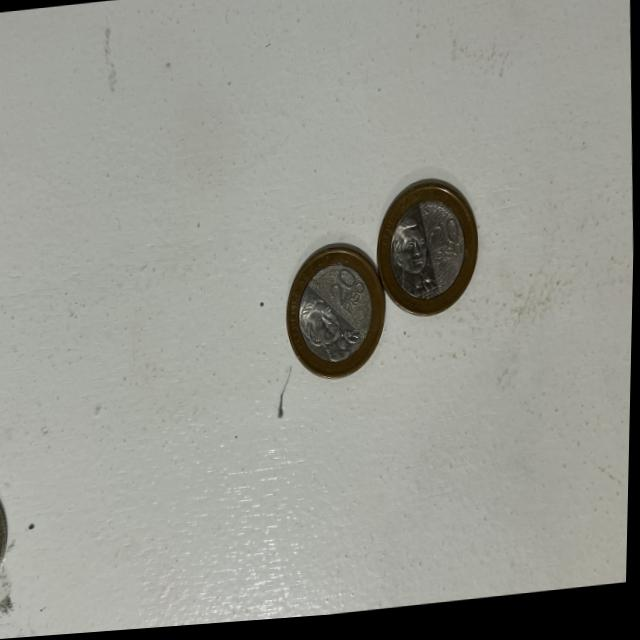20_New_Front: (426, 215, 472, 271), (328, 271, 371, 316)
